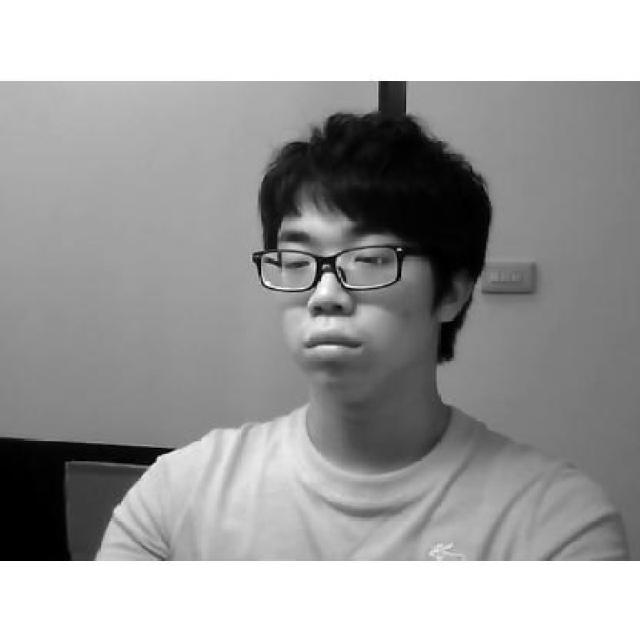inattentif: (248, 108, 472, 400)
